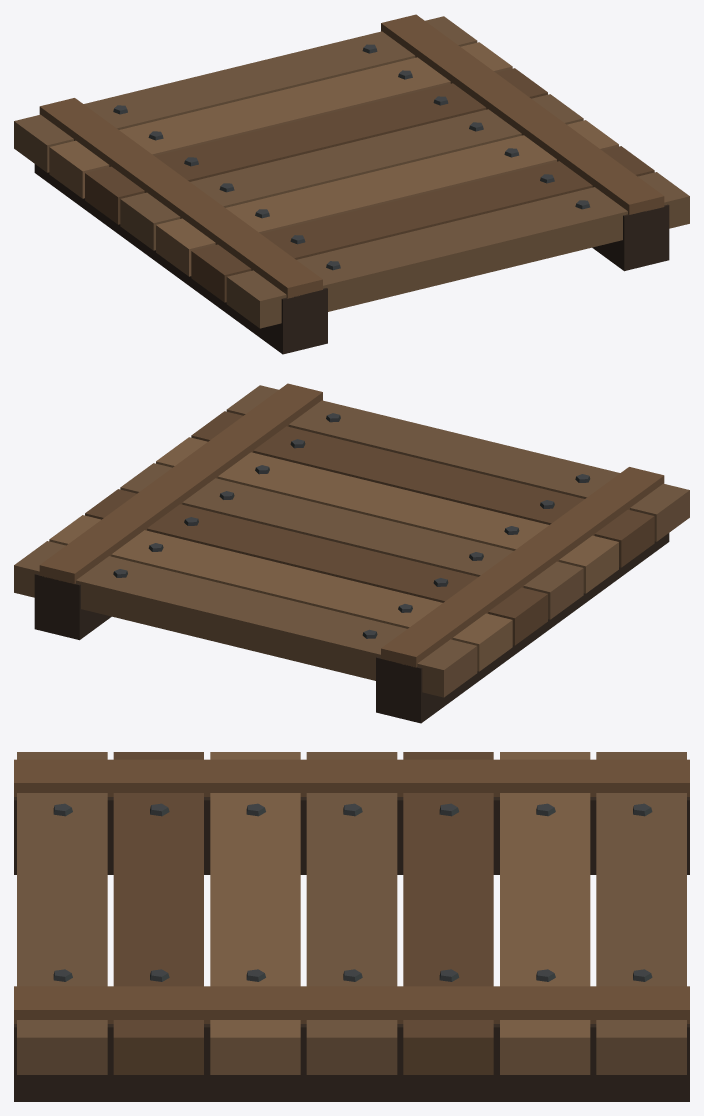
File: timber-deck.glb
3 views of the same model, one above another, from view 1: azimuth 30°, elevation 25°; view 2: azimuth 150°, elevation 25°; view 3: azimuth 270°, elevation 25° (orthographic). The views are drawn at different scales.
Parts seen in each view (by area): view 1: One-square timber bridge deck; view 2: One-square timber bridge deck; view 3: One-square timber bridge deck.
Part boxes in pixels (x1,y1,x2,y2): One-square timber bridge deck: (14,14,689,354); One-square timber bridge deck: (14,383,689,723); One-square timber bridge deck: (14,752,689,1101).
Bounding box in the file's own units: 1 × 0.145 × 1.
